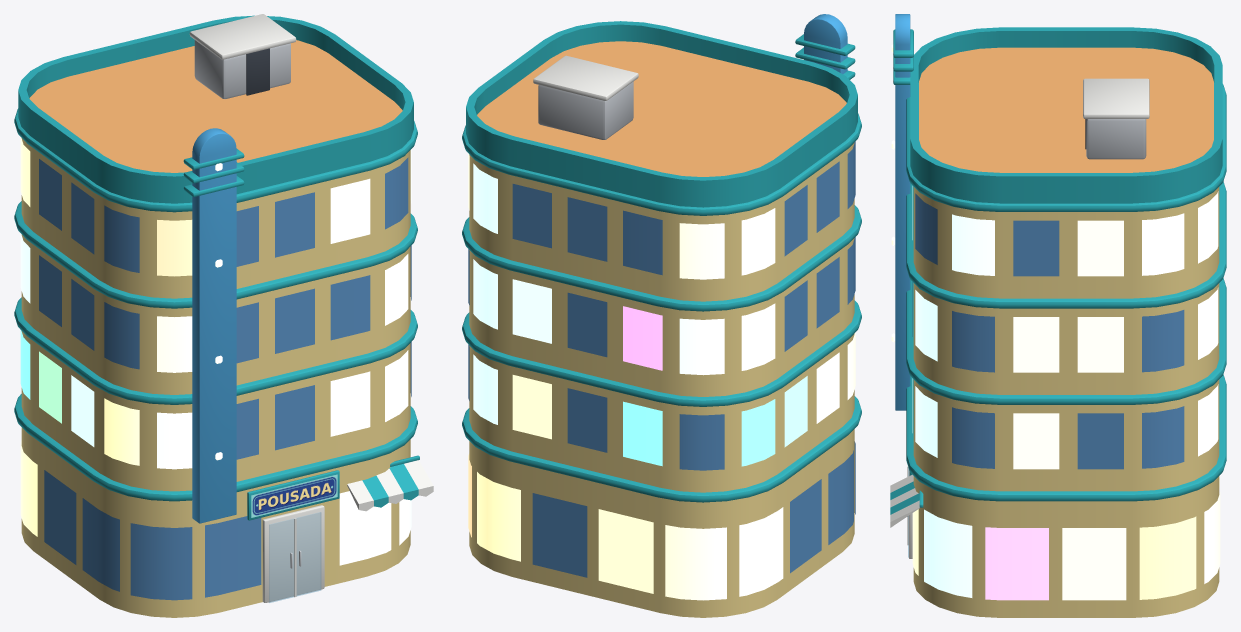
Rendered from deco_faixa_amarelo.glb.
The picture shows the model from 3 angles, left to right: view 1: azimuth 30°, elevation 25°; view 2: azimuth 150°, elevation 25°; view 3: azimuth 270°, elevation 25°; orthographic projection.
Visible parts, largest first — view 1: deco_faixa_amarelo; view 2: deco_faixa_amarelo; view 3: deco_faixa_amarelo.
Part boxes in pixels (<box>): deco_faixa_amarelo: <box>14,14,433,617</box>; deco_faixa_amarelo: <box>462,14,861,617</box>; deco_faixa_amarelo: <box>890,14,1226,617</box>.
Bounding box in the file's own units: 10.84 × 16.2 × 10.12.
Materials: 11 (2 with a texture image).
